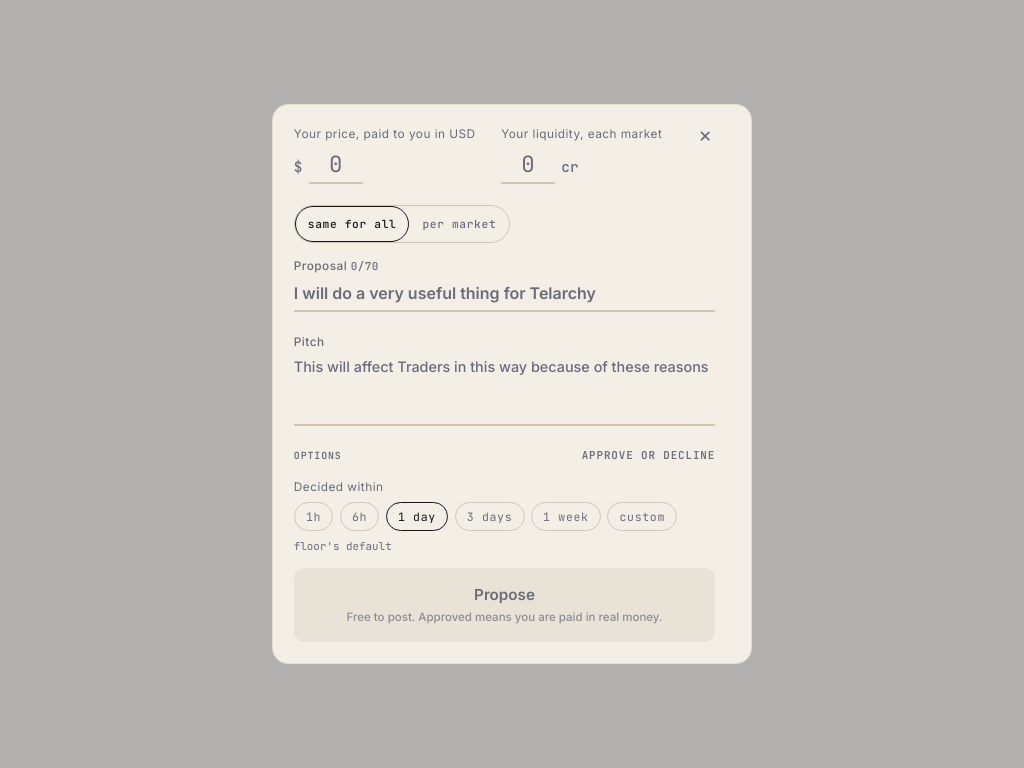
Test: per market: the proposer chooses per metric and date › switching back keeps the number while every market agrees
Step 1. Type "100" into the field named "each market" → (528, 166), box [501, 148, 555, 184]
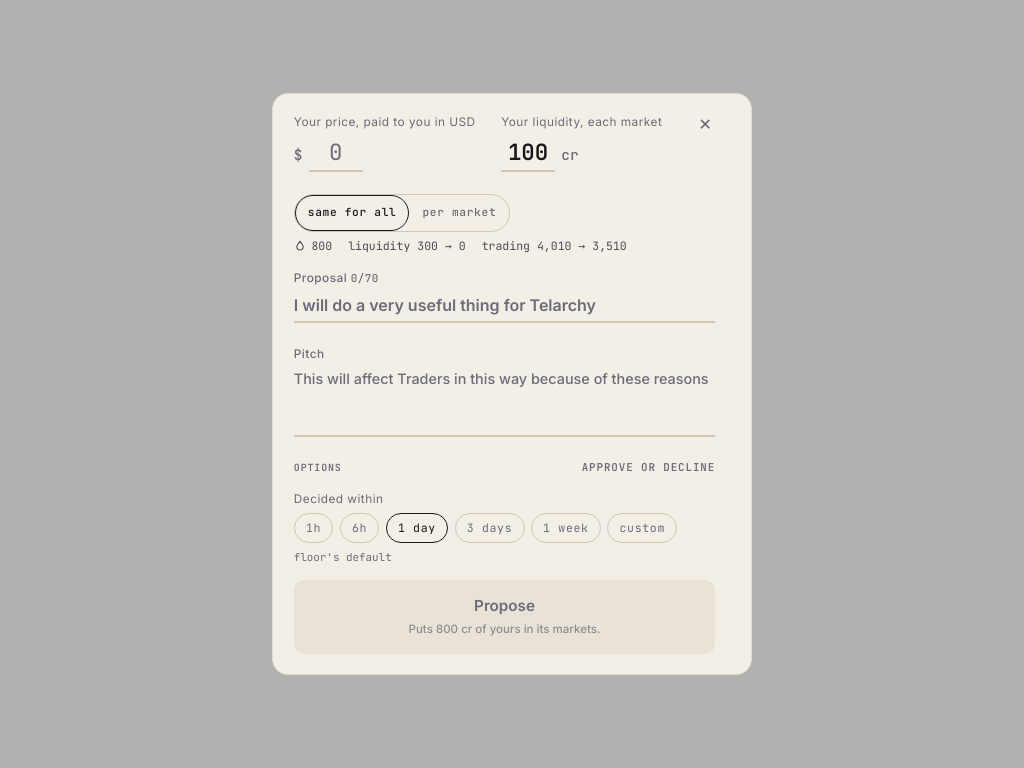
Step 2. Click the button "per market" → (459, 213), box [409, 195, 509, 231]
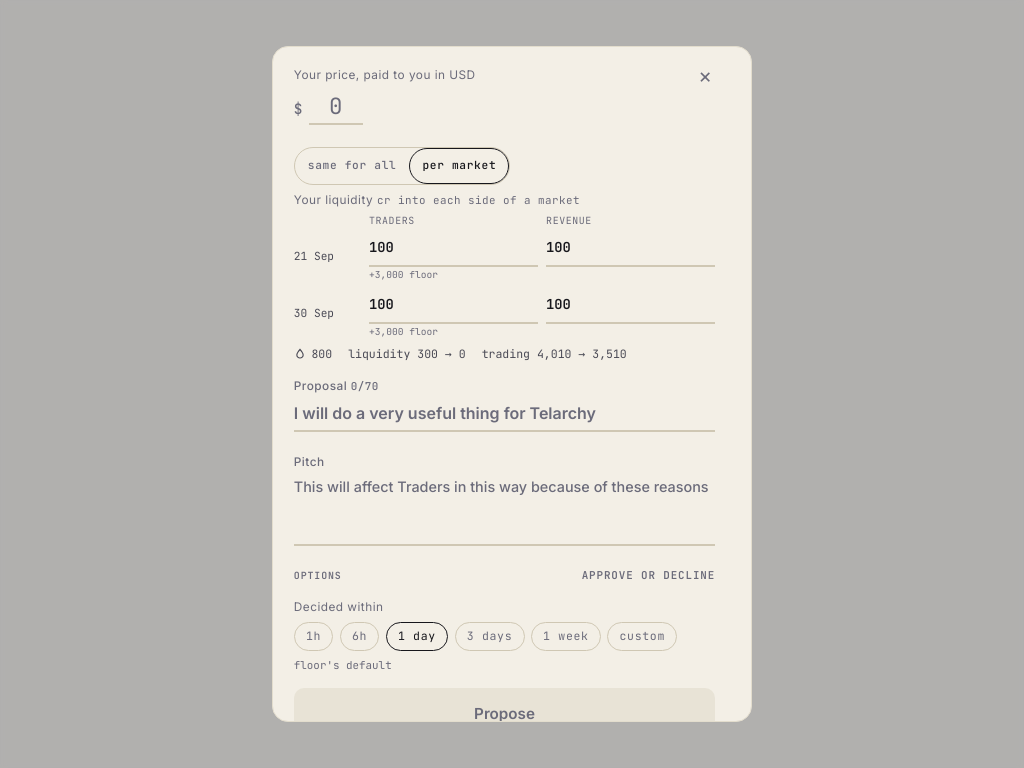
Step 3. Click the button "same for all" → (352, 166), box [295, 148, 409, 184]
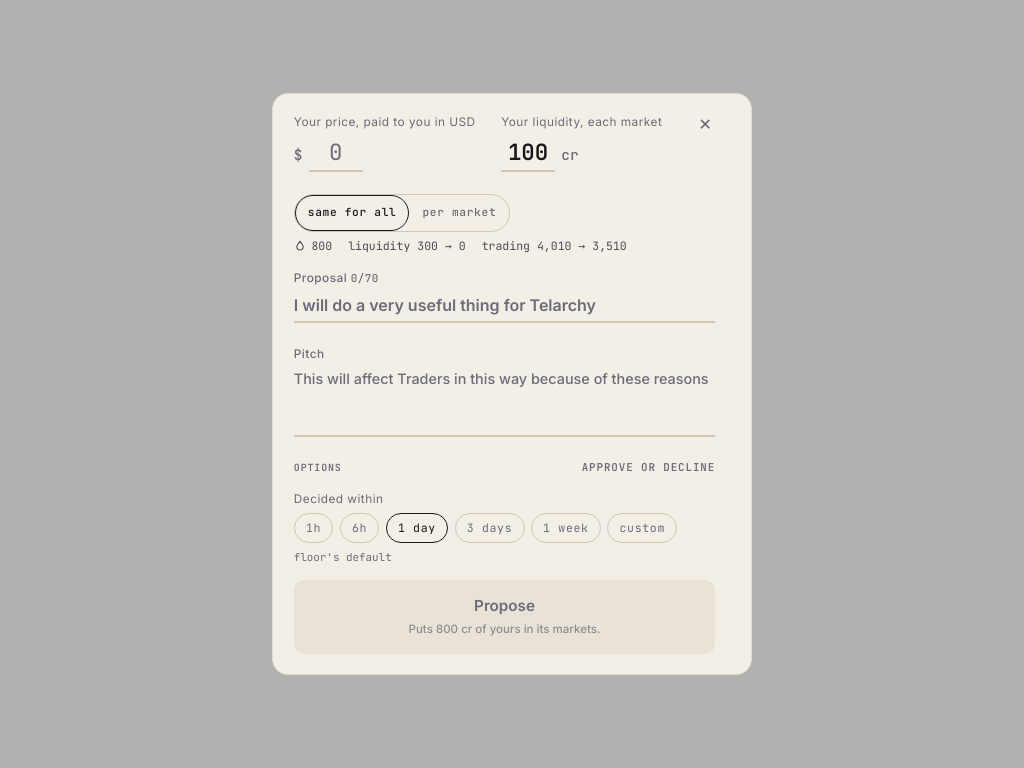
Expected: the field named "each market" holds "100", [501, 136, 555, 172]
Expected: the button with class "ticket-go" reads "Propose Puts 800 cr of yours in its markets.", [294, 580, 715, 654]
